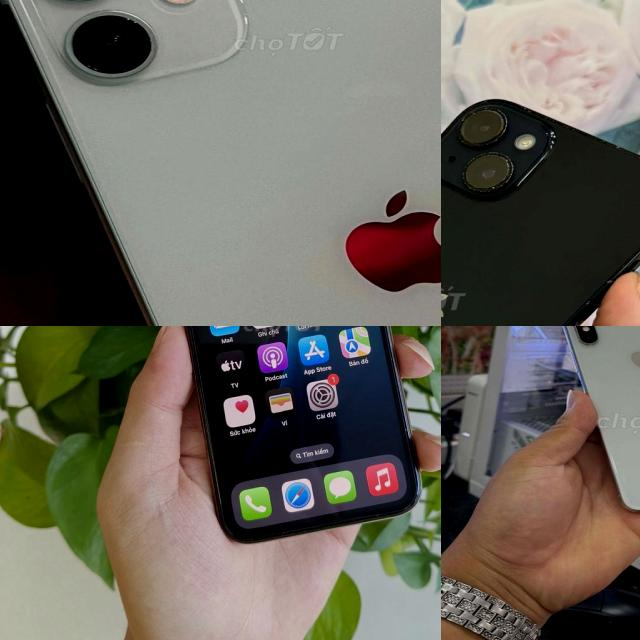gen_11: (0, 0, 441, 326)
gen_14: (441, 94, 640, 326)
gen_x_xs: (155, 326, 420, 547), (530, 326, 640, 513)
